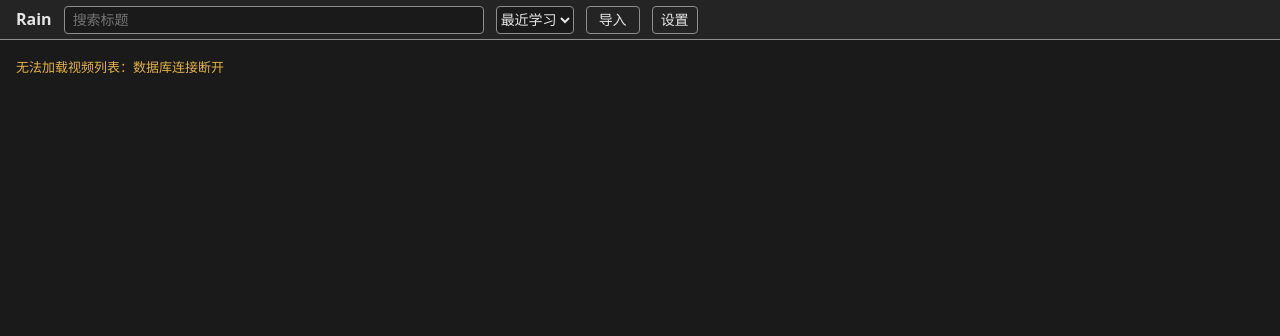
Test: AC-VL-03 VideoListPage title search › shows a query failure separately from an empty library or a no-title-match state, then clears it after a successful query
Expected: the message reads "无法加载视频列表：数据库连接断开", [16,58,224,76]
Step 1. Type "Existing" into the field named "搜索视频标题" → (274, 20), box [64,6,484,34]
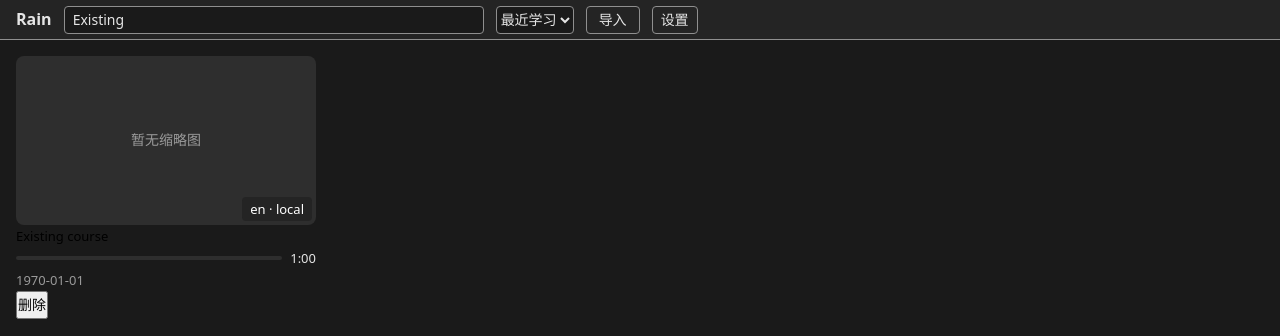
Expected: the element with test id "card-existing" is shown, [16,56,316,319]
